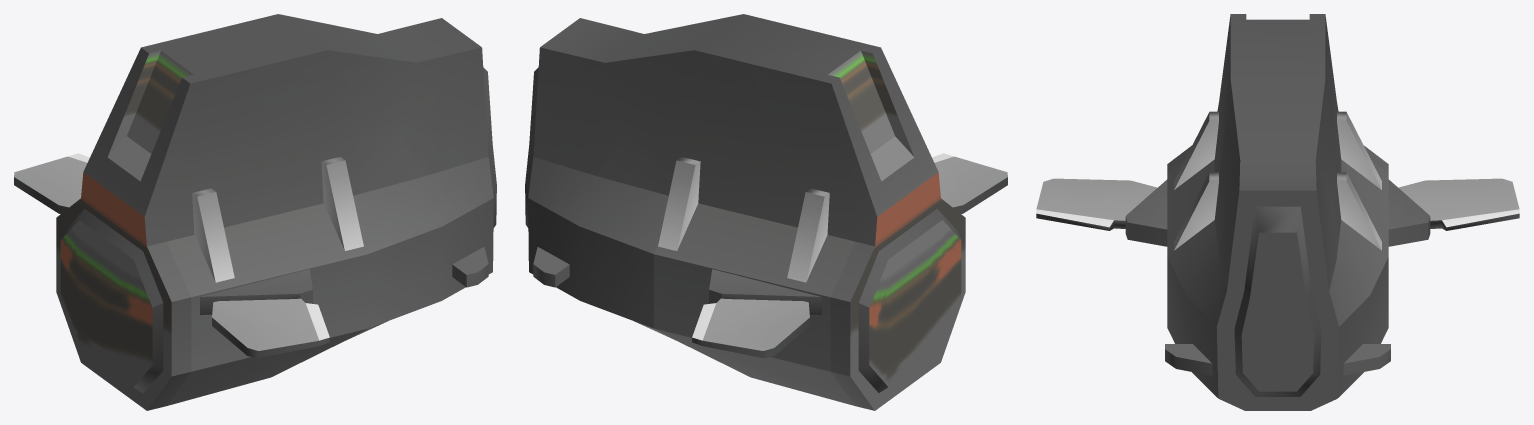
File: Cargo2.fbx
3 views of the same model, side by side, from view 1: azimuth 30°, elevation 25°; view 2: azimuth 150°, elevation 25°; view 3: azimuth 270°, elevation 25° (orthographic). The views are drawn at different scales.
Visible parts, largest first — view 1: Cargo2.001, Cargo2.003, Cargo2.002, Cargo2.004; view 2: Cargo2.001, Cargo2.003, Cargo2.002, Cargo2.004; view 3: Cargo2.001, Cargo2.004, Cargo2.002.
Boxes of the visible parts, left/top/right/bottom form: Cargo2.001: left=83, top=14, right=493, bottom=410; Cargo2.003: left=56, top=172, right=171, bottom=410; Cargo2.002: left=14, top=153, right=488, bottom=357; Cargo2.004: left=483, top=67, right=496, bottom=227; Cargo2.001: left=528, top=14, right=938, bottom=410; Cargo2.003: left=850, top=172, right=965, bottom=410; Cargo2.002: left=533, top=153, right=1007, bottom=357; Cargo2.004: left=525, top=67, right=538, bottom=227; Cargo2.001: left=1167, top=14, right=1388, bottom=397; Cargo2.004: left=1216, top=190, right=1339, bottom=410; Cargo2.002: left=1036, top=111, right=1519, bottom=375.
Size of the model in its own units: 2.6 by 2.11 by 3.06.
